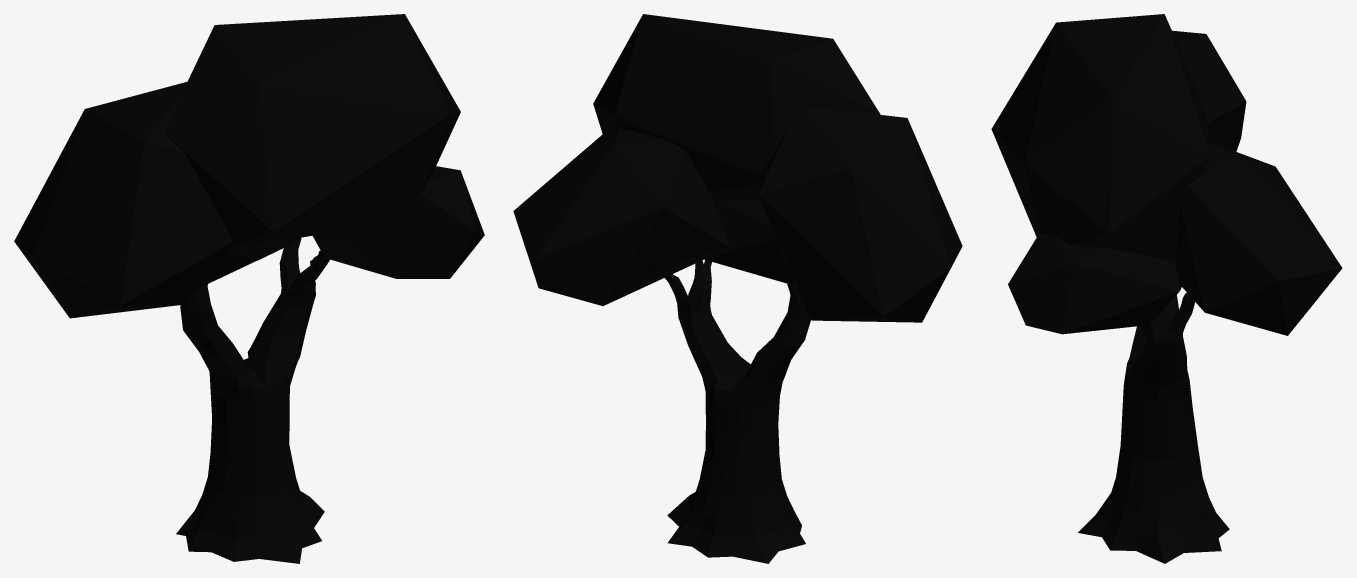
File: tree_oak1.fbx
3 renders of one model, left to right at view 1: azimuth 30°, elevation 25°; view 2: azimuth 150°, elevation 25°; view 3: azimuth 270°, elevation 25°, orthographic. The views are drawn at different scales.
Parts seen in each view (by area): view 1: oak1; view 2: oak1; view 3: oak1.
Part boxes in pixels (box(x1,y1,x2,y2)): oak1: box(14, 14, 484, 563); oak1: box(513, 14, 962, 563); oak1: box(991, 14, 1342, 563).
Bounding box in the file's own units: 874 × 1072 × 677.
